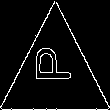P_W: (33, 55, 77, 92)
